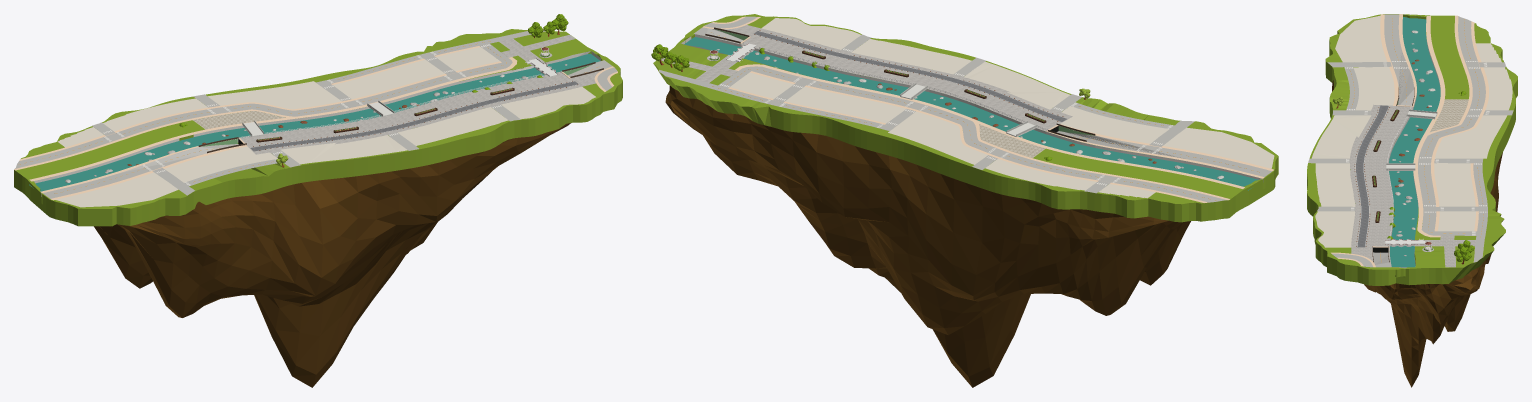
Rendered from isla_sola.glb.
The picture shows the model from 3 angles, left to right: view 1: azimuth 30°, elevation 25°; view 2: azimuth 150°, elevation 25°; view 3: azimuth 270°, elevation 25°; orthographic projection. The views are drawn at different scales.
Parts seen in each view (by area): view 1: isla_cesped_003001_023_174, isla_cesped_003_022_175, cuadras_pavimento_024_021_007, calle_av1norte_015_011_156, bulevar_corredor_tunel_018_009_003, rio_agua_183, anden_av1norte_021_001_001, rio_muros_004_031_170, ciclorruta_012_018_004, suelo_gato_del_rio_036_032_009, retreta_caminos_025001_042_008, isla_sola (+1 smaller); view 2: isla_cesped_003001_023_174, isla_cesped_003_022_175, cuadras_pavimento_024_021_007, calle_av1norte_015_011_156, bulevar_corredor_tunel_018_009_003, rio_agua_183, anden_av1norte_021_001_001, rio_muros_004_031_170, ciclorruta_012_018_004, suelo_gato_del_rio_036_032_009, isla_sola, retreta_caminos_025001_042_008 (+1 smaller); view 3: cuadras_pavimento_024_021_007, isla_cesped_003_022_175, calle_av1norte_015_011_156, isla_cesped_003001_023_174, rio_agua_183, bulevar_corredor_tunel_018_009_003, anden_av1norte_021_001_001, ciclorruta_012_018_004, suelo_gato_del_rio_036_032_009, retreta_caminos_025001_042_008, isla_sola, cebras_017_157 (+6 smaller).
Part boxes in pixels (bbox=[...]): isla_cesped_003001_023_174: bbox=[94, 123, 570, 387]; isla_cesped_003_022_175: bbox=[14, 29, 622, 226]; cuadras_pavimento_024_021_007: bbox=[55, 47, 595, 207]; calle_av1norte_015_011_156: bbox=[15, 30, 617, 198]; bulevar_corredor_tunel_018_009_003: bbox=[240, 60, 604, 154]; rio_agua_183: bbox=[29, 53, 600, 191]; anden_av1norte_021_001_001: bbox=[14, 46, 617, 200]; rio_muros_004_031_170: bbox=[34, 51, 602, 196]; ciclorruta_012_018_004: bbox=[250, 81, 578, 151]; suelo_gato_del_rio_036_032_009: bbox=[193, 111, 285, 129]; retreta_caminos_025001_042_008: bbox=[499, 35, 575, 65]; isla_sola: bbox=[179, 14, 568, 167]; isla_cesped_003001_023_174: bbox=[665, 86, 1190, 387]; isla_cesped_003_022_175: bbox=[653, 14, 1278, 222]; cuadras_pavimento_024_021_007: bbox=[730, 18, 1274, 198]; calle_av1norte_015_011_156: bbox=[659, 16, 1271, 202]; bulevar_corredor_tunel_018_009_003: bbox=[694, 25, 1072, 131]; rio_agua_183: bbox=[684, 37, 1258, 190]; anden_av1norte_021_001_001: bbox=[702, 16, 1273, 202]; rio_muros_004_031_170: bbox=[681, 34, 1263, 184]; ciclorruta_012_018_004: bbox=[754, 31, 1066, 121]; suelo_gato_del_rio_036_032_009: bbox=[979, 124, 1045, 157]; isla_sola: bbox=[651, 44, 1090, 160]; retreta_caminos_025001_042_008: bbox=[661, 55, 741, 82]; cuadras_pavimento_024_021_007: bbox=[1311, 15, 1512, 247]; isla_cesped_003_022_175: bbox=[1307, 14, 1517, 285]; calle_av1norte_015_011_156: bbox=[1308, 14, 1513, 267]; isla_cesped_003001_023_174: bbox=[1332, 80, 1502, 387]; rio_agua_183: bbox=[1389, 17, 1440, 267]; bulevar_corredor_tunel_018_009_003: bbox=[1350, 104, 1412, 267]; anden_av1norte_021_001_001: bbox=[1331, 14, 1488, 267]; ciclorruta_012_018_004: bbox=[1356, 105, 1388, 247]; suelo_gato_del_rio_036_032_009: bbox=[1430, 99, 1468, 132]; retreta_caminos_025001_042_008: bbox=[1414, 235, 1475, 267]; isla_sola: bbox=[1333, 91, 1474, 264]; cebras_017_157: bbox=[1345, 61, 1489, 235].
Size of the model in its own units: 46.28 by 22.46 by 16.13.
Materials: 55 (4 with a texture image).
